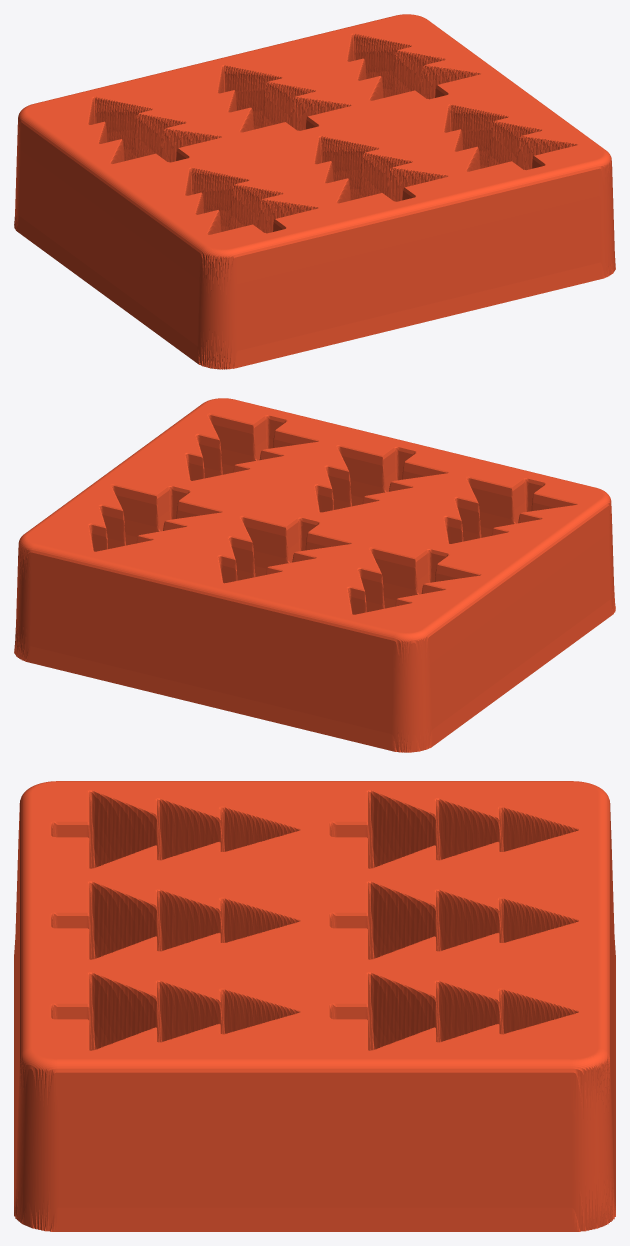
Rendered from mold.glb.
The picture shows the model from 3 angles, top to bottom: view 1: azimuth 30°, elevation 25°; view 2: azimuth 150°, elevation 25°; view 3: azimuth 270°, elevation 25°; orthographic projection. The views are drawn at different scales.
Visible parts, largest first — view 1: geometry_0; view 2: geometry_0; view 3: geometry_0.
Boxes of the visible parts, box(x1,y1,x2,y2) form: geometry_0: box(14, 14, 615, 369); geometry_0: box(14, 398, 615, 752); geometry_0: box(14, 781, 615, 1231).
Size of the model in its own units: 0.143 by 0.0377 by 0.1246.
